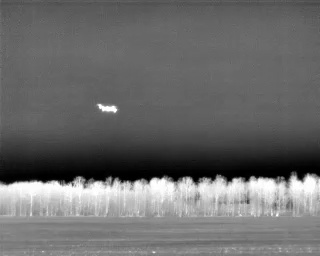DRONE: (94, 99, 122, 118)
